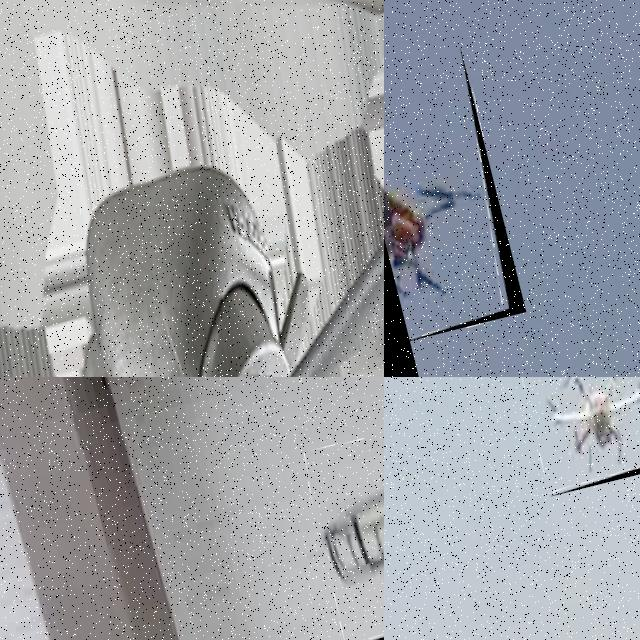drone: (0, 0, 384, 377), (384, 47, 526, 340), (299, 409, 384, 640), (515, 377, 640, 496)
